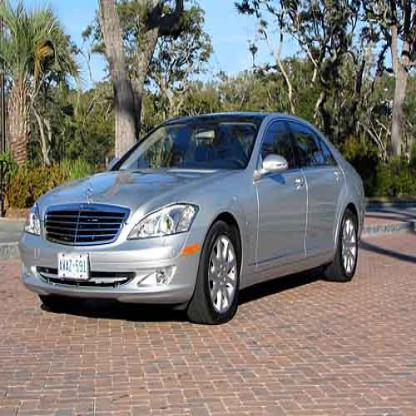car: (17, 110, 368, 327)
